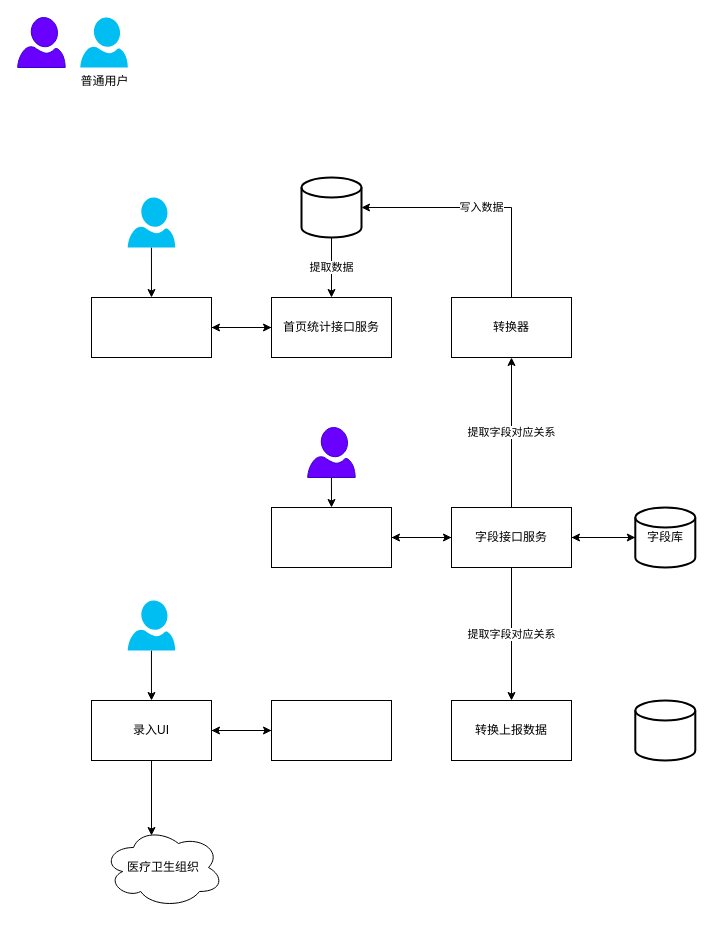
This 714x925 diagram has some shape labels left out. Here are the shapes that lost their labels. From the top down, the centre of each, then its label:
[331,207]: 统计库
[151,327]: 统计UI
[331,537]: 字段UI
[331,730]: 首页录入接口服务
[665,730]: 录入库
